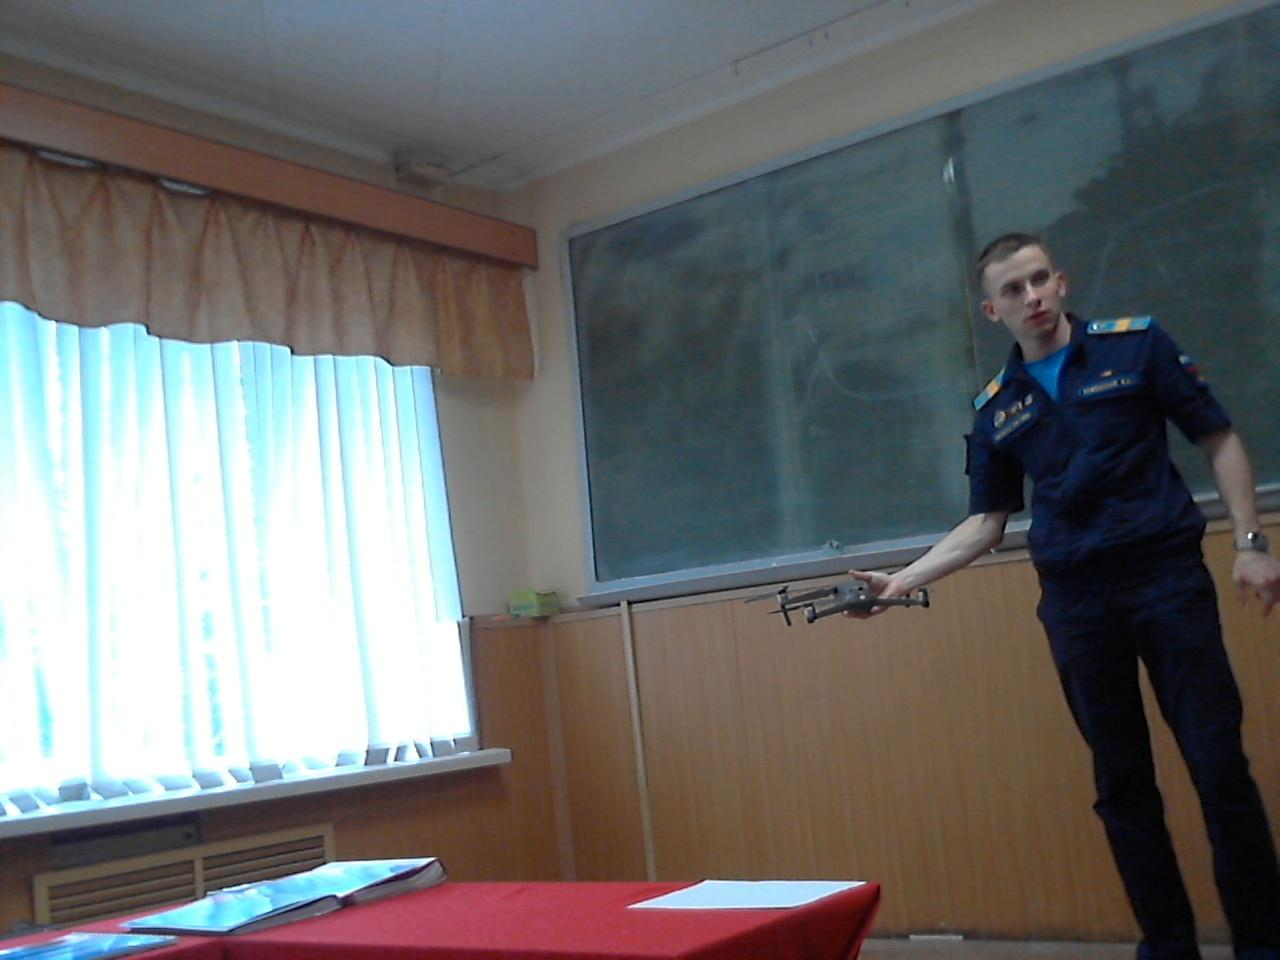drone: (732, 544, 976, 629)
